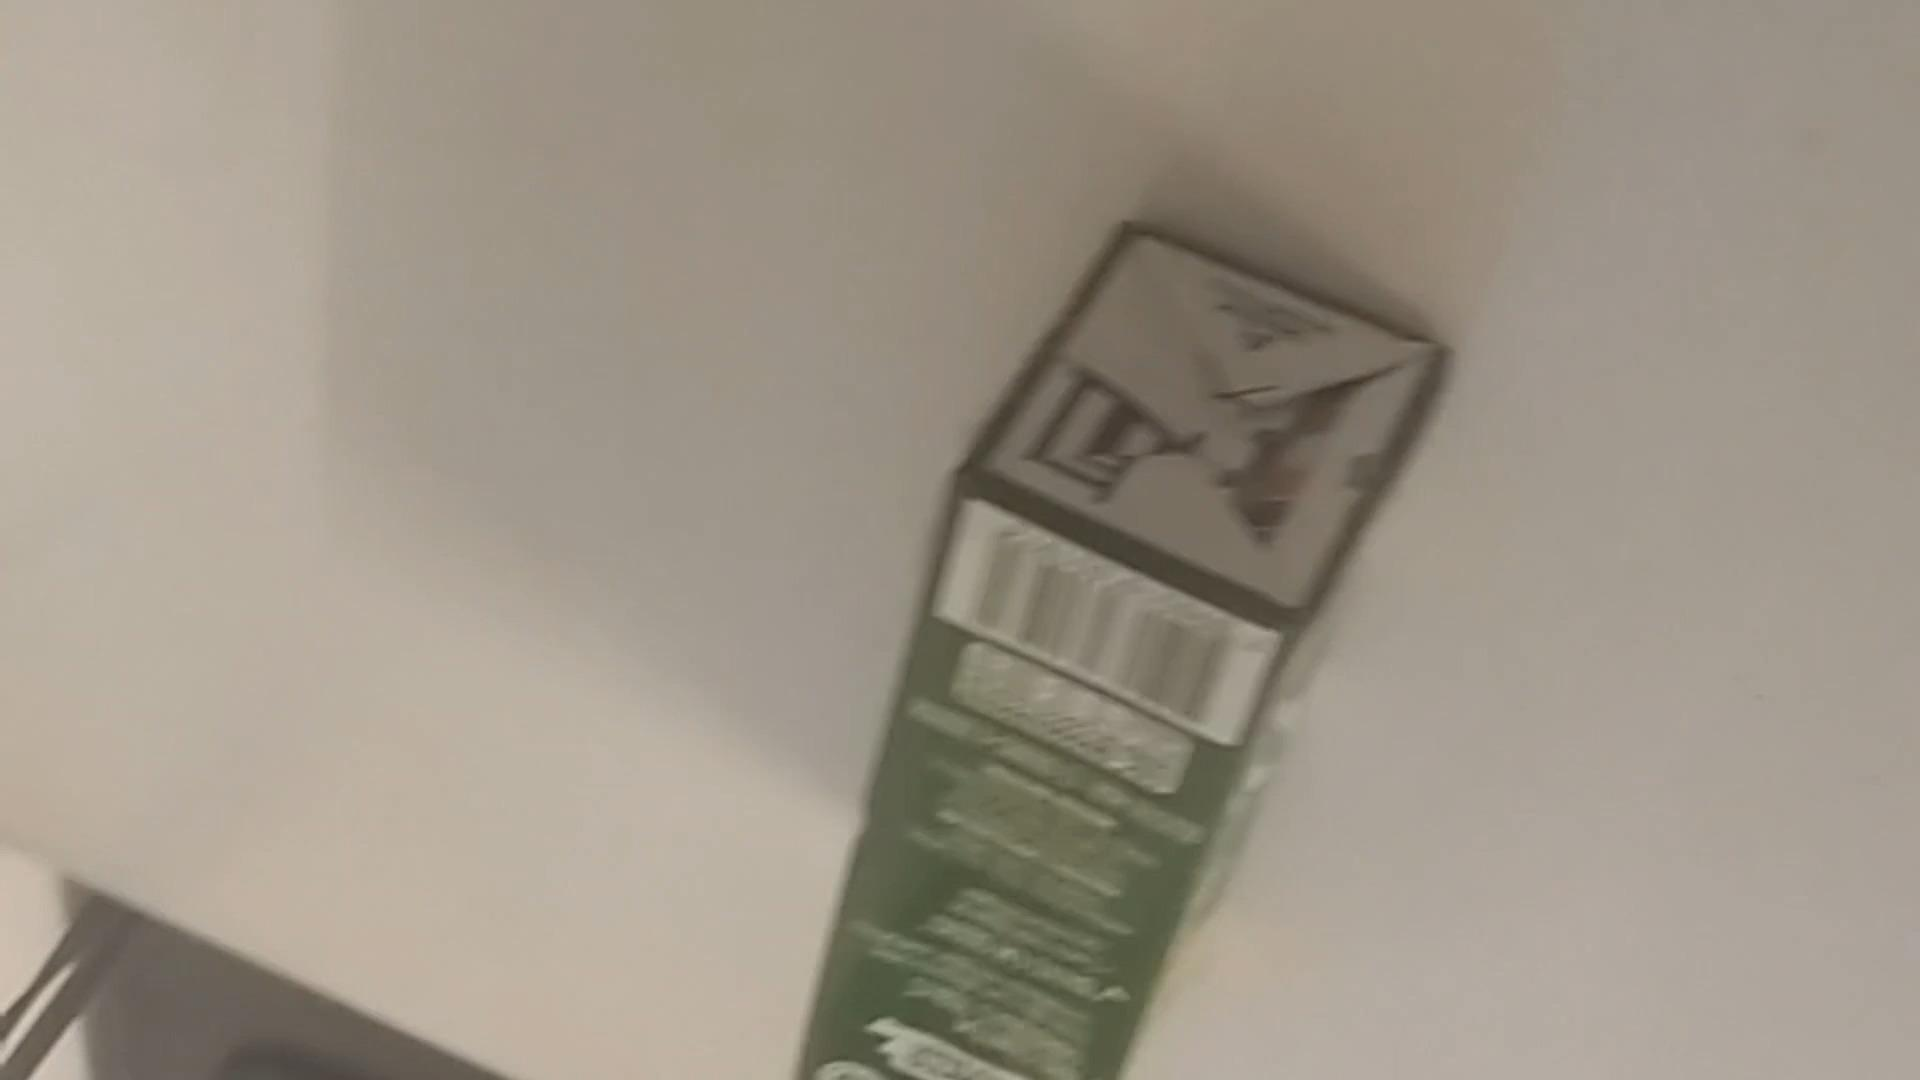coco: (795, 225, 1451, 1080)
